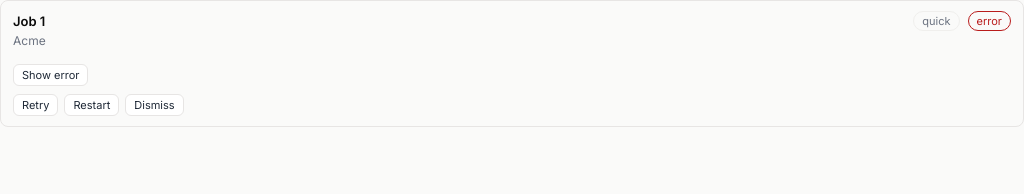
it: QueueItem › copies the error JSON to the clipboard
This screenshot has width=1024, height=194.
What coordinates should you click on to do the following:
click the button "Show error"
I would click on:
 (51, 75)
Its box is 13,64 -> 88,86.
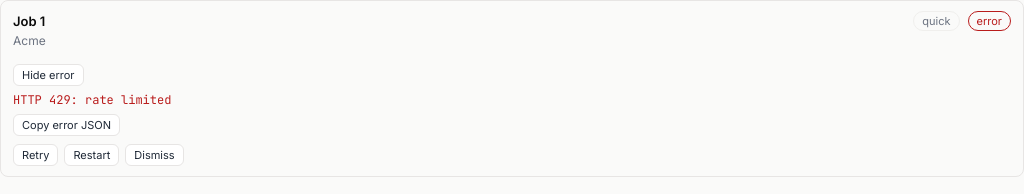
What coordinates should you click on to do the following:
click the button "Copy error JSON"
I would click on:
 (66, 125)
Its box is 13,114 -> 120,136.
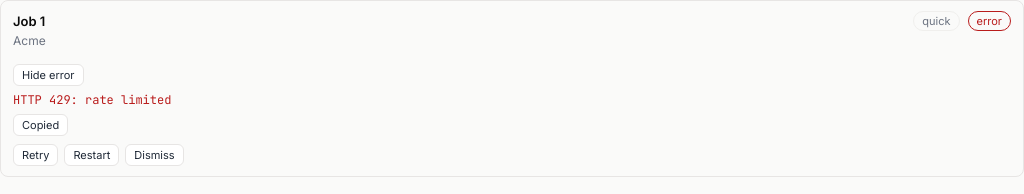
Expected: the button "Copied" is shown, 13,114 -> 68,136
